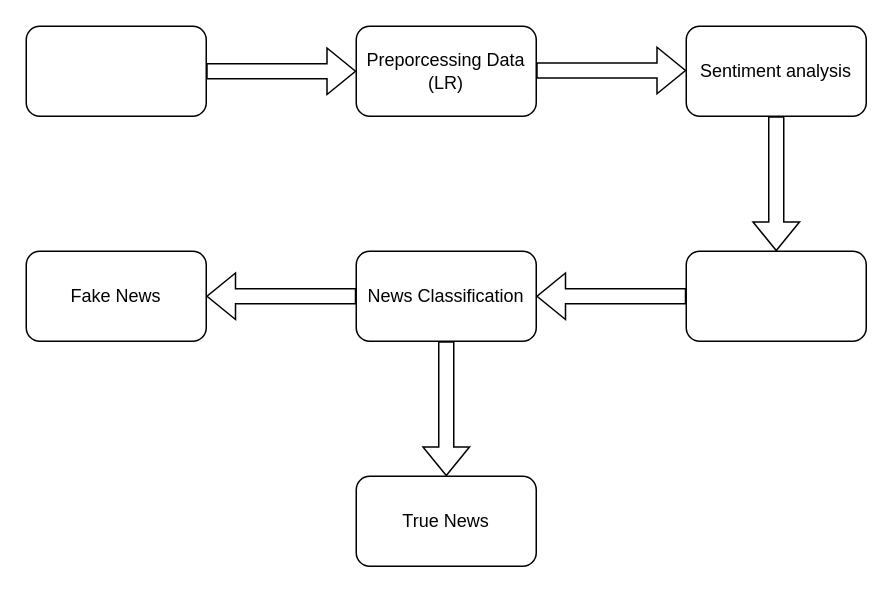
This 893x593 diagram has some shape labels left out. The box of each missing label's shape, as (x1, y1, x2, y2) in pixels:
Dataset News Articles: (25, 25, 206, 116)
Training the classifer: (685, 250, 866, 341)
